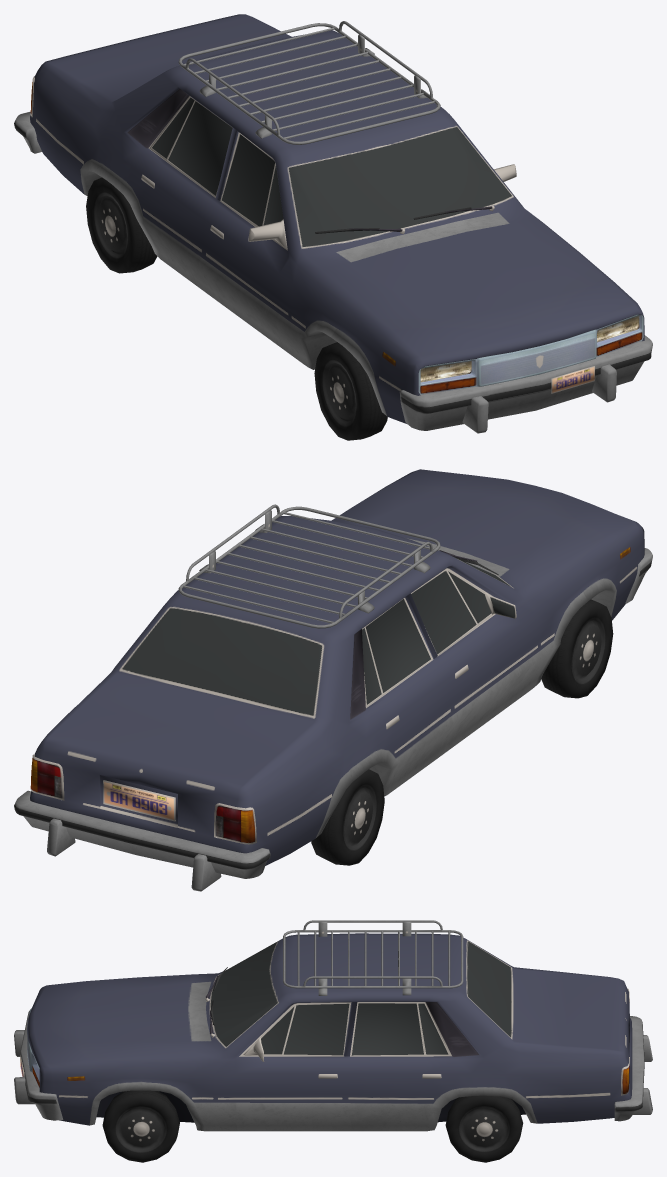
3 renders of one model, top to bottom at view 1: azimuth 30°, elevation 25°; view 2: azimuth 150°, elevation 25°; view 3: azimuth 270°, elevation 25°, orthographic. The views are drawn at different scales.
Visible parts, largest first — view 1: Sedan.001; view 2: Sedan.001; view 3: Sedan.001.
Boxes of the visible parts, bbox=[...] form: Sedan.001: bbox=[14, 14, 652, 440]; Sedan.001: bbox=[14, 469, 652, 891]; Sedan.001: bbox=[14, 920, 652, 1162].
Bounding box in the file's own units: 2.7 × 2.18 × 7.42.
Materials: 1 (1 with a texture image).
